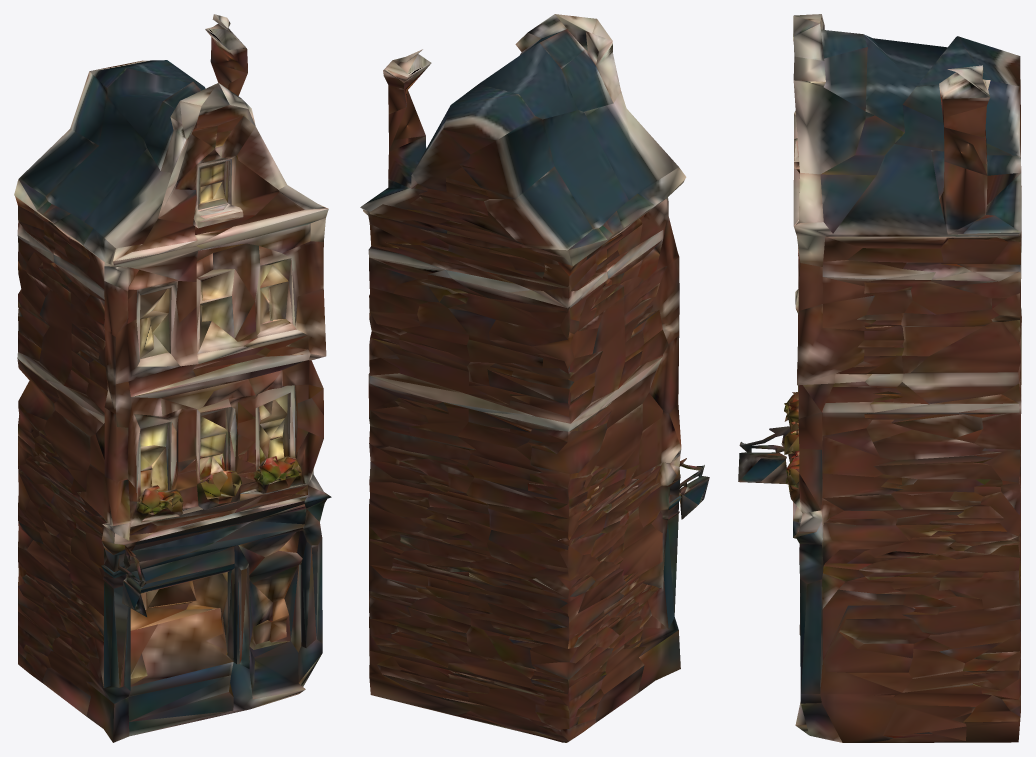
The model's file is getkong-haus12.glb.
3 renders of one model, left to right at view 1: azimuth 30°, elevation 25°; view 2: azimuth 150°, elevation 25°; view 3: azimuth 270°, elevation 25°, orthographic. The views are drawn at different scales.
Visible parts, largest first — view 1: output_unwrapped; view 2: output_unwrapped; view 3: output_unwrapped.
Boxes of the visible parts, x1,y1,x2,y2 form: output_unwrapped: (14,14,331,742); output_unwrapped: (360,14,709,742); output_unwrapped: (738,14,1021,742).
Size of the model in its own units: 0.6906 by 1.88 by 0.7194.
1 material, 1 textured.
